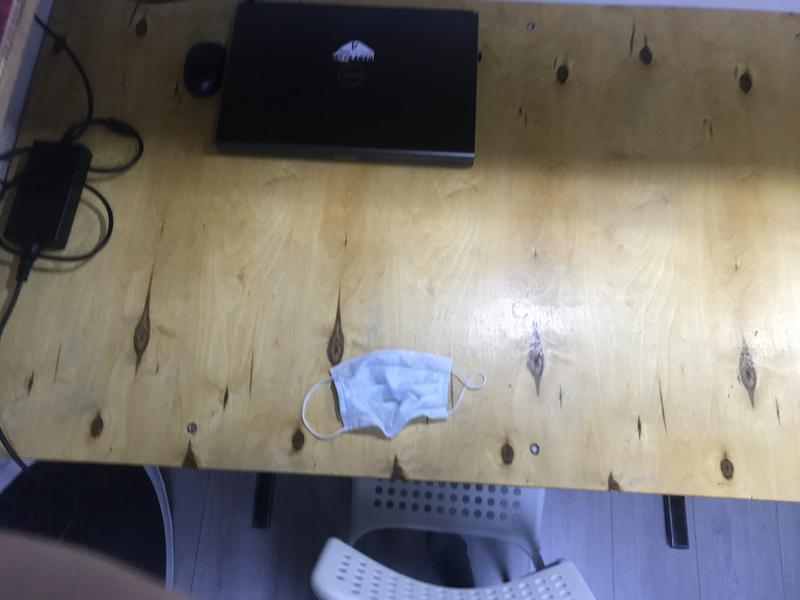medical_mask: (303, 348, 485, 441)
